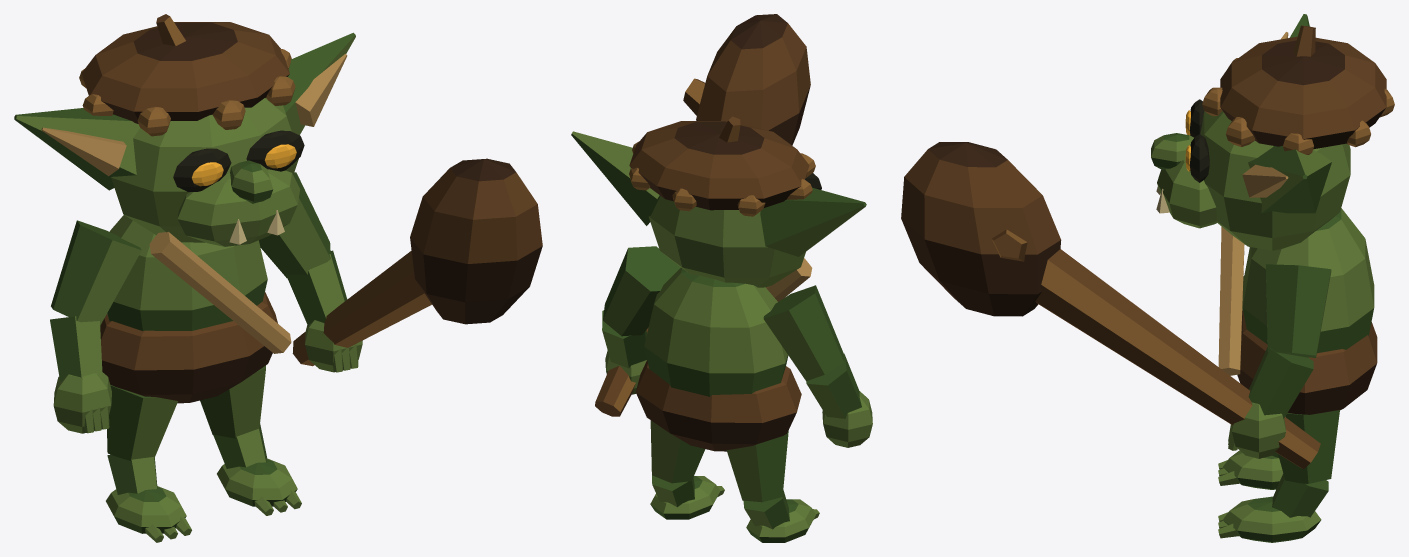
Rendered from Bramblekin.fbx.
3 renders of one model, left to right at view 1: azimuth 30°, elevation 25°; view 2: azimuth 150°, elevation 25°; view 3: azimuth 270°, elevation 25°, orthographic. The views are drawn at different scales.
Parts seen in each view (by area): view 1: Head, Arm.R, Body, Arm.L, Leg.L, Foot.L, Foot.R, Leg.R, Shin.L, Shin.R; view 2: Head, Body, Arm.R, Arm.L, Leg.L, Leg.R, Foot.L, Foot.R, Shin.L, Shin.R; view 3: Arm.R, Head, Body, Foot.R, Leg.R, Foot.L, Shin.R.
Boxes of the visible parts, left/top/right/bottom form: Head: left=14, top=14, right=355, bottom=246; Arm.R: left=259, top=158, right=542, bottom=372; Body: left=100, top=215, right=291, bottom=403; Arm.L: left=50, top=220, right=141, bottom=433; Leg.L: left=107, top=385, right=177, bottom=460; Foot.L: left=106, top=486, right=191, bottom=542; Foot.R: left=217, top=458, right=301, bottom=515; Leg.R: left=200, top=365, right=265, bottom=438; Shin.L: left=107, top=454, right=157, bottom=494; Shin.R: left=213, top=423, right=267, bottom=468; Head: left=571, top=116, right=866, bottom=287; Body: left=635, top=258, right=812, bottom=451; Arm.R: left=595, top=14, right=810, bottom=416; Arm.L: left=763, top=285, right=872, bottom=447; Leg.L: left=726, top=431, right=788, bottom=502; Leg.R: left=650, top=420, right=705, bottom=483; Foot.L: left=746, top=499, right=819, bottom=542; Foot.R: left=650, top=476, right=724, bottom=519; Shin.L: left=743, top=490, right=789, bottom=529; Shin.R: left=651, top=471, right=694, bottom=507; Arm.R: left=901, top=142, right=1331, bottom=469; Head: left=1151, top=14, right=1394, bottom=250; Body: left=1218, top=208, right=1377, bottom=414; Foot.R: left=1218, top=496, right=1321, bottom=542; Leg.R: left=1278, top=410, right=1339, bottom=483; Foot.L: left=1218, top=450, right=1283, bottom=489; Shin.R: left=1272, top=474, right=1328, bottom=517.
Bounding box in the file's own units: 123 × 160 × 150.
